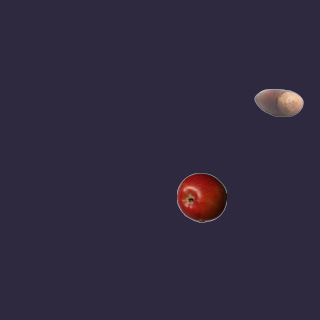Apple Braeburn: (176, 172, 226, 222)
Hazelnut: (253, 77, 303, 127)
